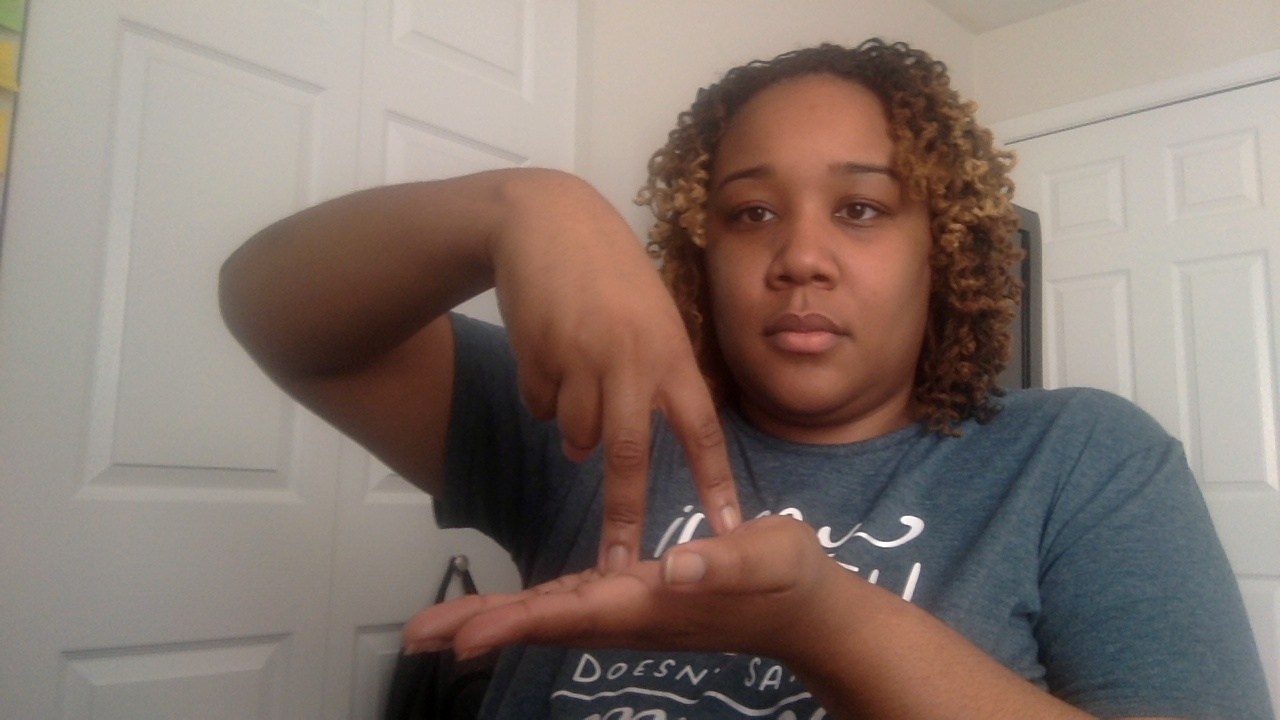fork: (370, 168, 820, 664)
